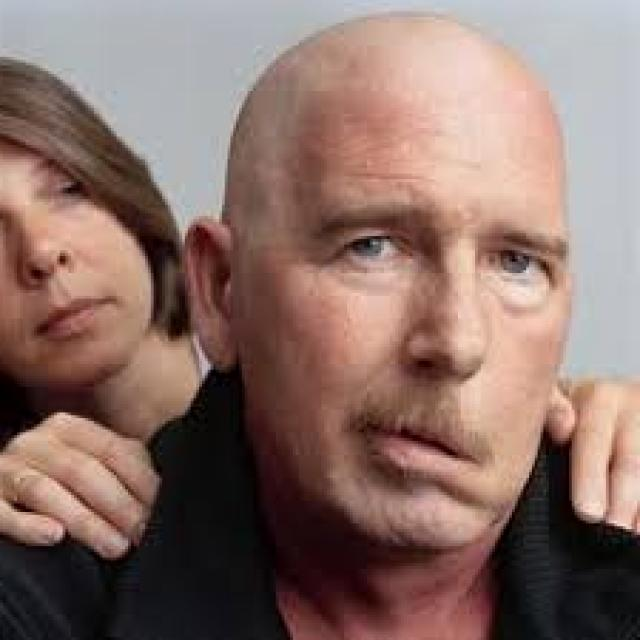stroke_face: (258, 24, 568, 556)
